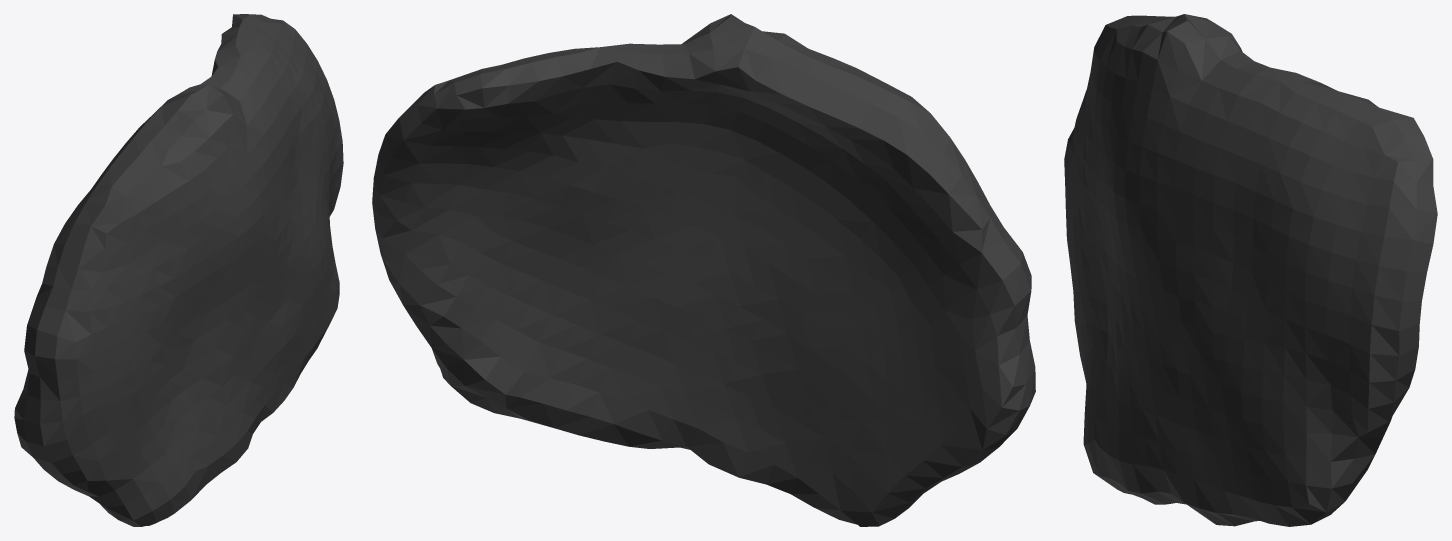
File: AURICLE_R.glb
3 views of the same model, side by side, from view 1: azimuth 30°, elevation 25°; view 2: azimuth 150°, elevation 25°; view 3: azimuth 270°, elevation 25° (orthographic). The views are drawn at different scales.
Parts seen in each view (by area): view 1: AURICLE_R; view 2: AURICLE_R; view 3: AURICLE_R.
Part boxes in pixels (box(x1,y1,x2,y2)): AURICLE_R: box(14, 14, 343, 526); AURICLE_R: box(372, 14, 1035, 526); AURICLE_R: box(1064, 14, 1437, 526).
Size of the model in its own units: 39.2 by 35.96 by 23.45.
1 material, 1 textured.
